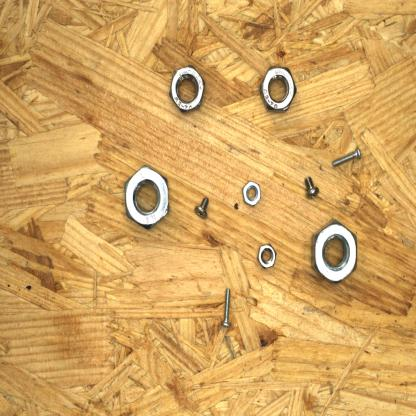screw: (332, 144, 364, 170), (220, 286, 233, 330), (303, 172, 318, 199), (194, 195, 210, 220)
